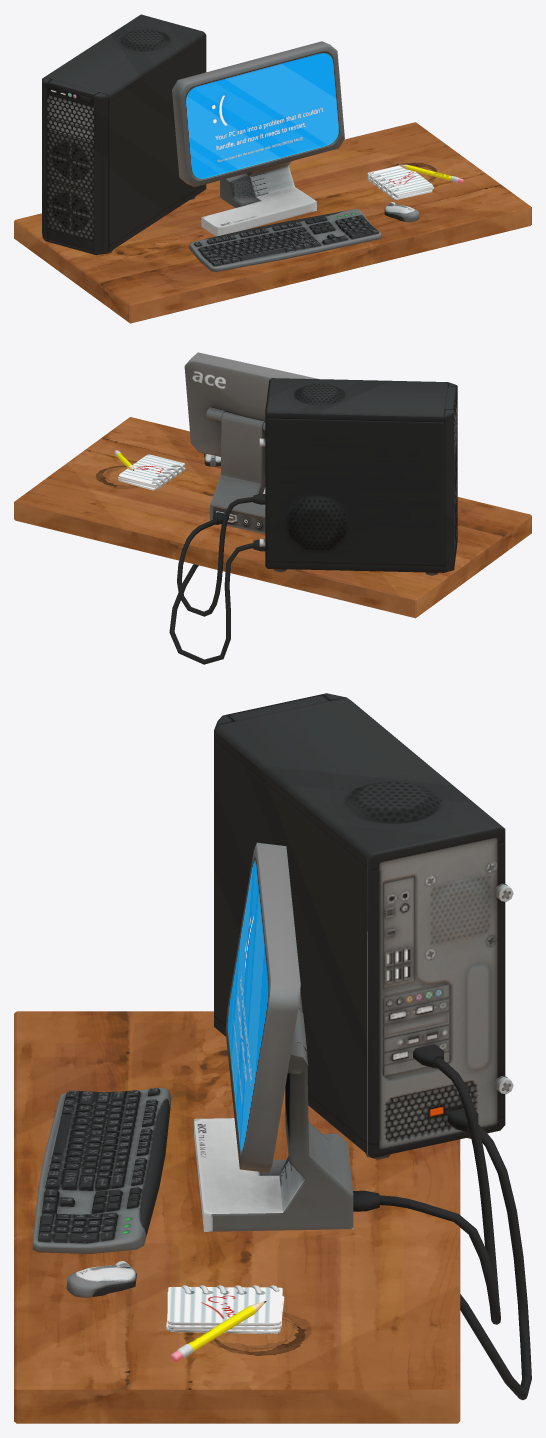
Rendered from deskglb.glb.
3 renders of one model, top to bottom at view 1: azimuth 30°, elevation 25°; view 2: azimuth 150°, elevation 25°; view 3: azimuth 270°, elevation 25°, orthographic. The views are drawn at different scales.
Visible parts, largest first — view 1: Plane.001; view 2: Plane.001; view 3: Plane.001.
Boxes of the visible parts, left/top/right/bottom form: Plane.001: left=14, top=14, right=531, bottom=323; Plane.001: left=14, top=352, right=531, bottom=664; Plane.001: left=14, top=693, right=531, bottom=1423.
Size of the model in its own units: 10.02 by 6.29 by 5.76.
1 material, 1 textured.
